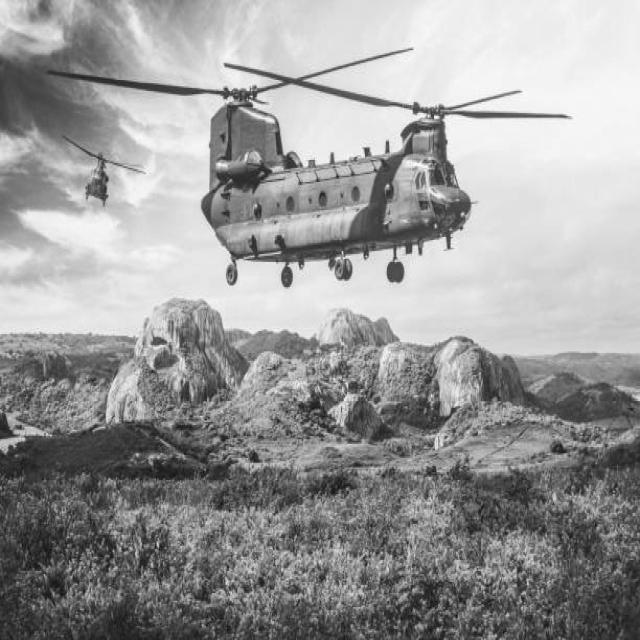Helicopter: (47, 49, 570, 288)
